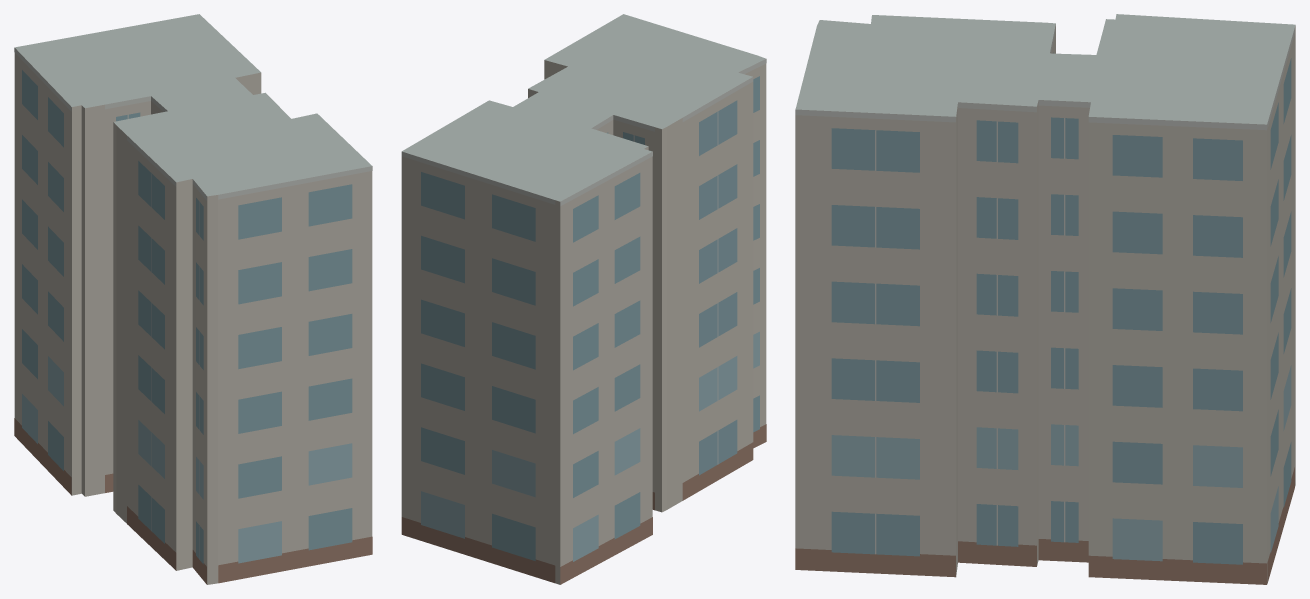
Rendered from survey-upis-32641248.glb.
3 renders of one model, left to right at view 1: azimuth 30°, elevation 25°; view 2: azimuth 150°, elevation 25°; view 3: azimuth 270°, elevation 25°, orthographic. The views are drawn at different scales.
Parts seen in each view (by area): view 1: survey-upis-32641248.tmp; view 2: survey-upis-32641248.tmp; view 3: survey-upis-32641248.tmp.
Boxes of the visible parts, box(x1,y1,x2,y2) form: survey-upis-32641248.tmp: box(14, 14, 372, 584); survey-upis-32641248.tmp: box(401, 14, 766, 584); survey-upis-32641248.tmp: box(795, 14, 1295, 584).
Size of the model in its own units: 10.21 by 19.8 by 19.51.
